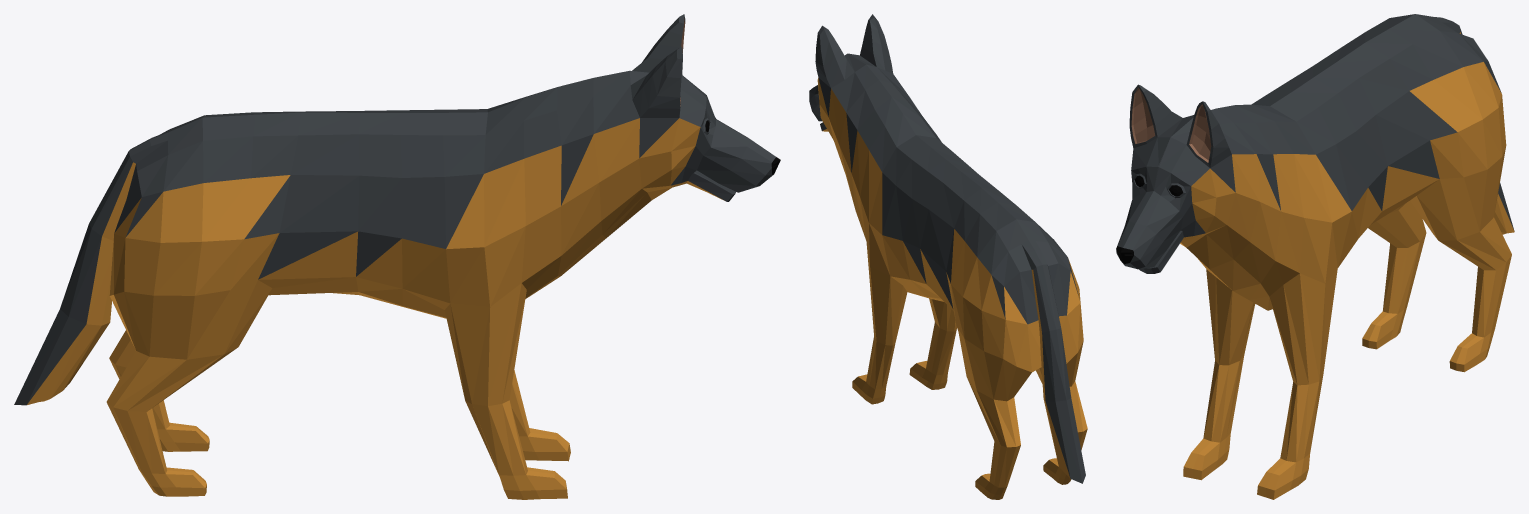
Rendered from DOG.obj.
The picture shows the model from 3 angles, left to right: view 1: azimuth 30°, elevation 25°; view 2: azimuth 150°, elevation 25°; view 3: azimuth 270°, elevation 25°; orthographic projection. The views are drawn at different scales.
Visible parts, largest first — view 1: DOG; view 2: DOG; view 3: DOG.
Part boxes in pixels (<box>): DOG: <box>14,14,780,499</box>; DOG: <box>809,14,1087,499</box>; DOG: <box>1116,14,1514,499</box>.
Bounding box in the file's own units: 0.2549 × 0.1923 × 0.1594.
Materials: 1 (1 with a texture image).
